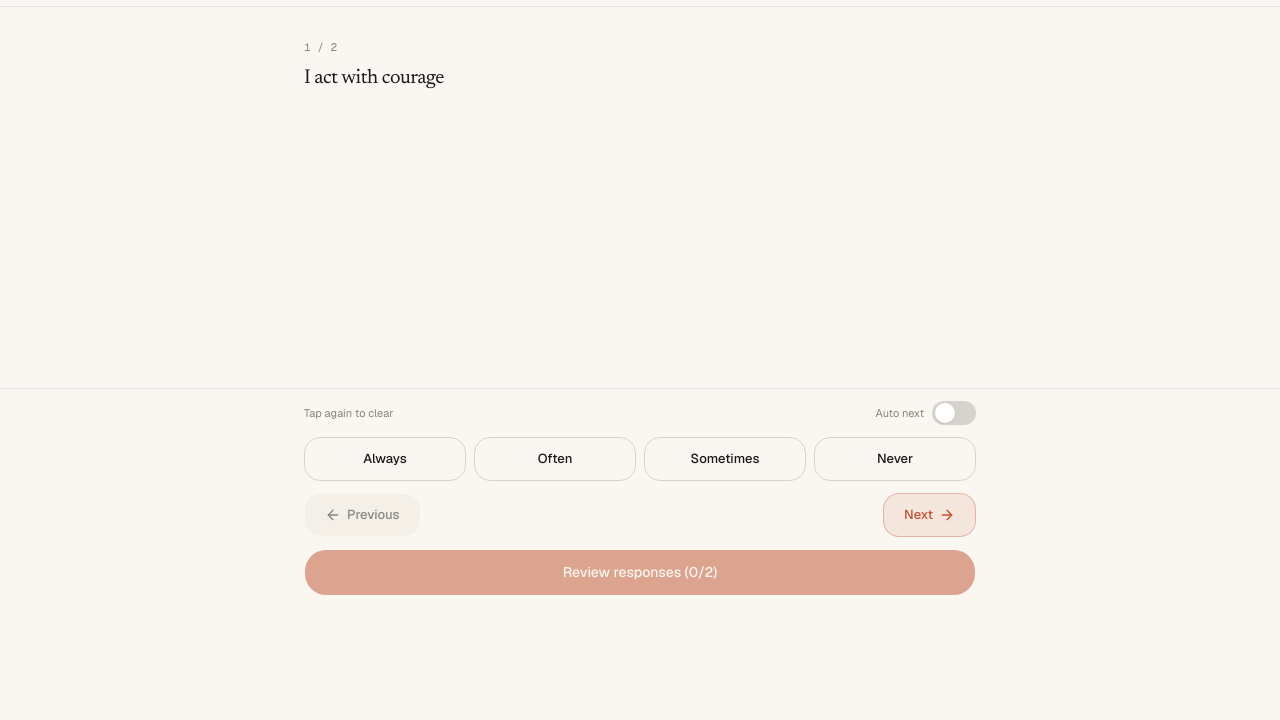
Test: TestQuestionPage › review button enables after selecting an answer
Click the button "Always" at (385, 459), box [304,437,466,481]
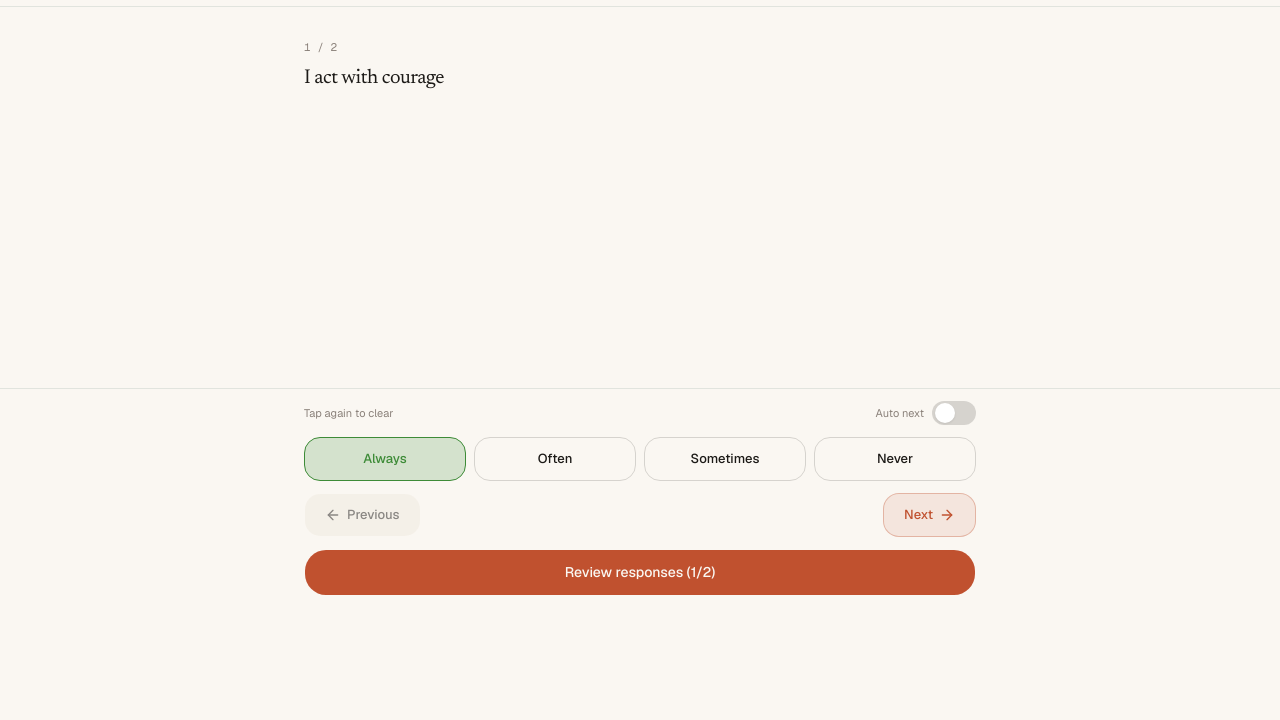
Now the button "Review responses (1/2)" is enabled, box [304,549,976,596]
